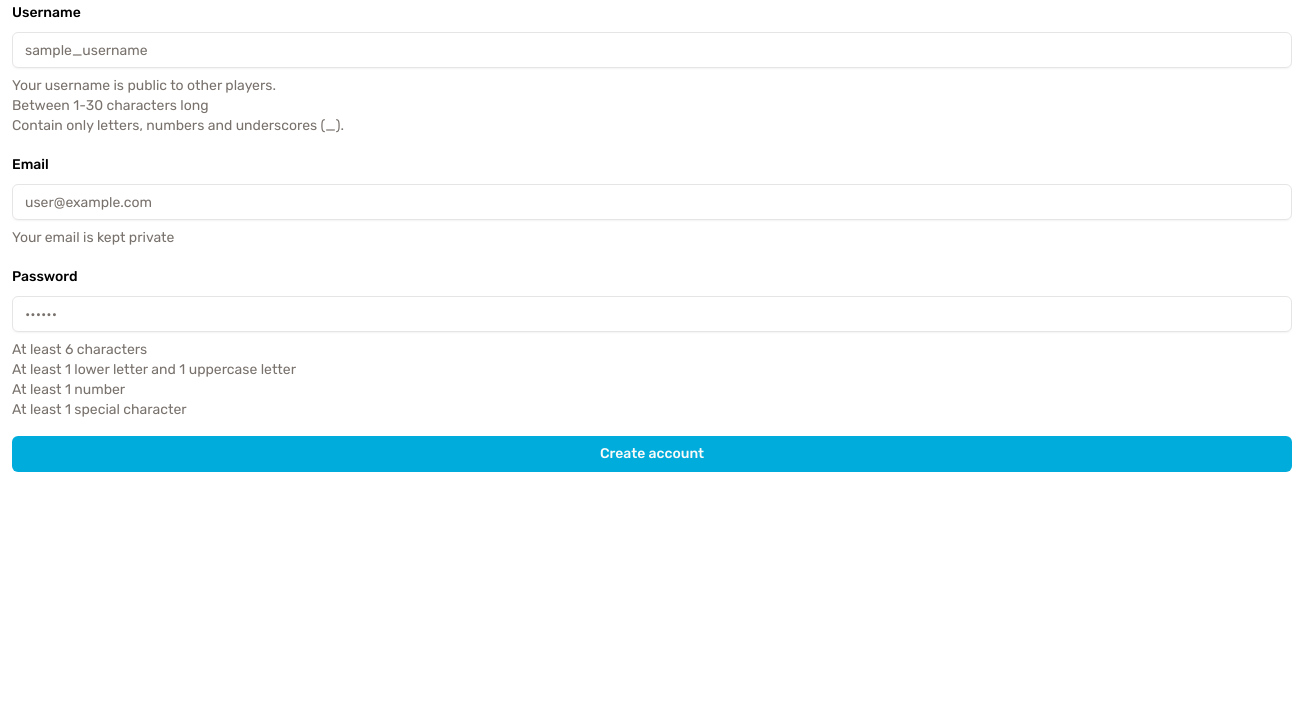
Test: validation is not successful › and username is not valid › should show an error if username is not valid (contains other special characters than _)
Type "user@$*" into the field labelled "Username" at (652, 50), box [12, 32, 1292, 68]
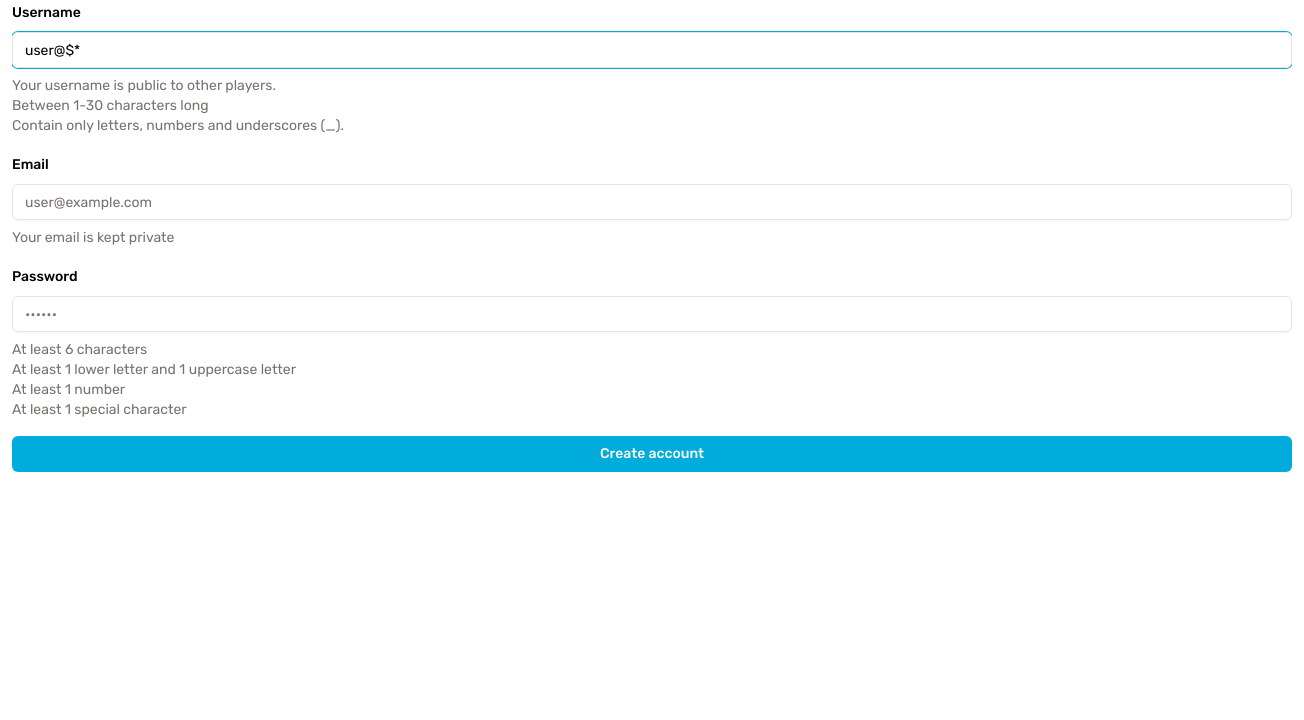
Click the button "Create account" at (652, 454), box [12, 436, 1292, 472]
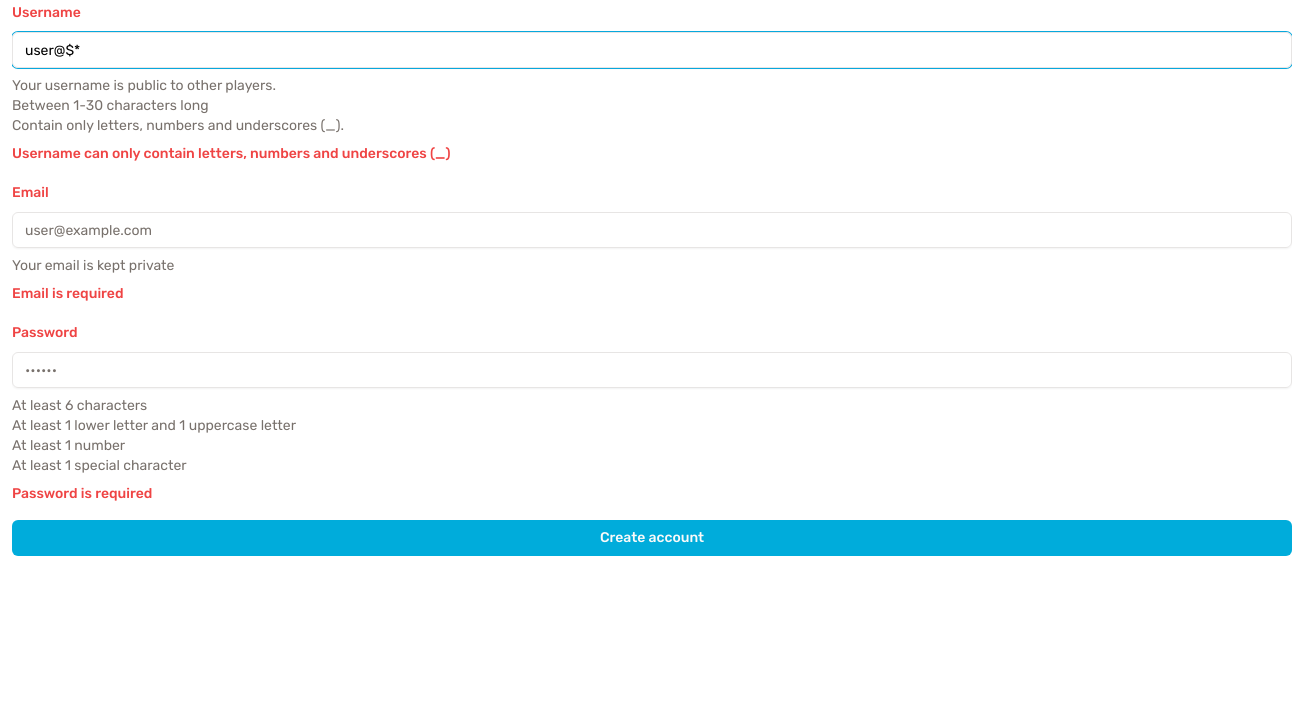
Check: the text "Username can only contain letters, numbers and underscores (_)" is shown, box [12, 145, 450, 162]
